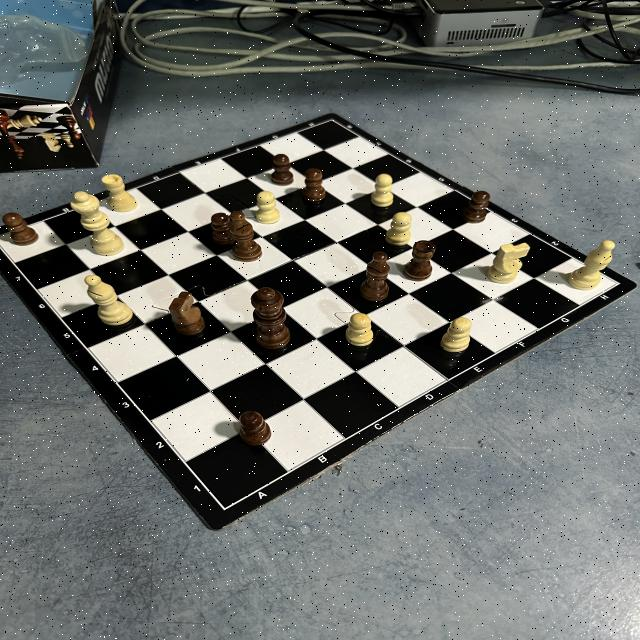Black-Bishop: (228, 210, 264, 262), (360, 250, 391, 302)
Black-Knight: (167, 291, 207, 335)
Black-Pawn: (2, 212, 40, 246), (239, 410, 272, 446), (461, 191, 491, 224), (302, 168, 328, 202), (270, 154, 294, 186), (211, 212, 231, 246)
Black-Queen: (250, 286, 292, 350)
Black-Rook: (402, 240, 438, 281)
White-Bishop: (84, 274, 134, 326), (568, 240, 616, 290)
White-Knight: (487, 242, 530, 284)
White-Pawn: (441, 316, 472, 352), (344, 313, 374, 347), (386, 212, 412, 246), (254, 191, 280, 224), (371, 174, 394, 208)
White-Queen: (70, 190, 126, 256)
White-Rook: (100, 173, 138, 213)
